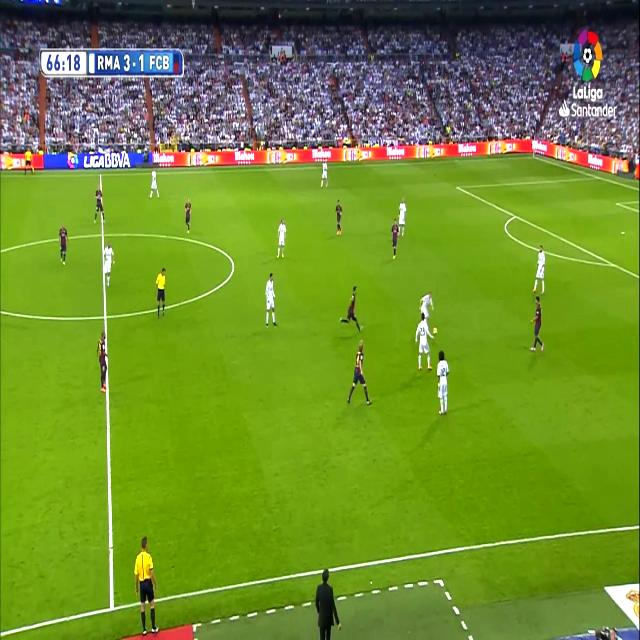halfcircle_bottom: (100, 304, 111, 328)
halfcircle_top: (98, 226, 107, 243)
midline_bottom_intersection: (104, 592, 120, 618)
midline_top_intersection: (98, 168, 104, 180)
top_arc_area_intersection: (511, 208, 518, 222)
